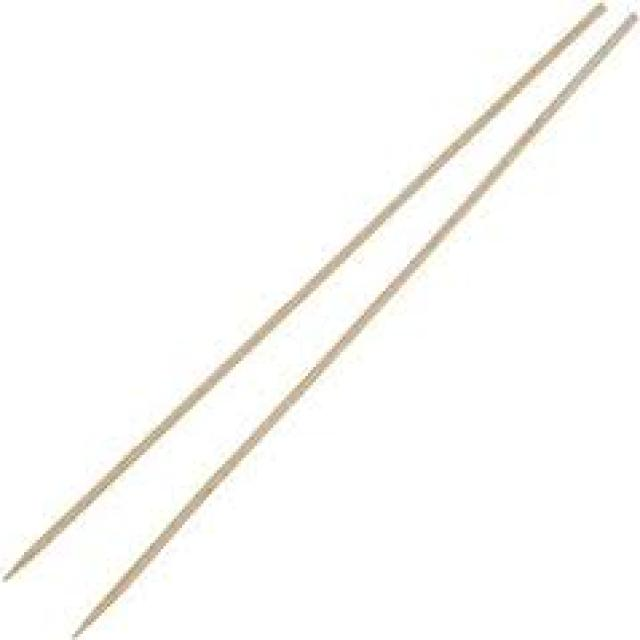stick: (7, 6, 604, 580), (77, 29, 620, 636)
